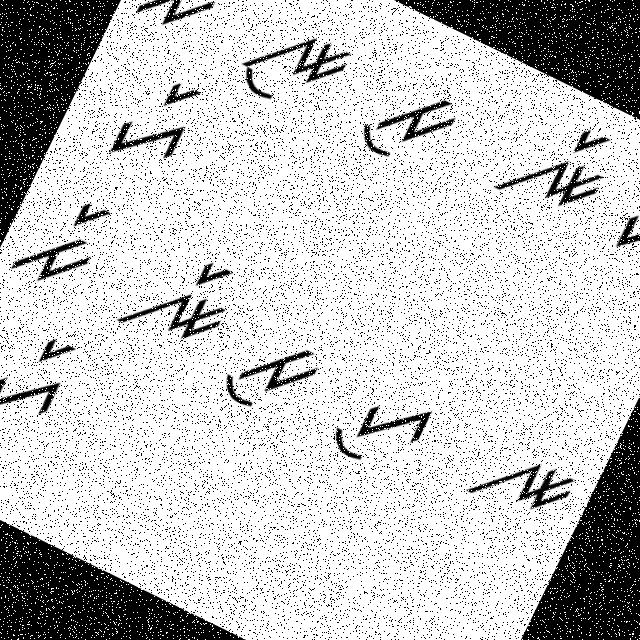ha: (603, 178, 639, 281)
har: (98, 59, 217, 192), (0, 315, 94, 449)
haw: (323, 370, 444, 489)
mbar: (5, 175, 121, 304), (123, 0, 246, 48)
mbaw: (342, 62, 466, 184), (208, 315, 330, 436)
nda: (450, 418, 586, 540)
ndar: (112, 225, 252, 368), (486, 94, 628, 233)
ndaw: (225, 0, 359, 131)
